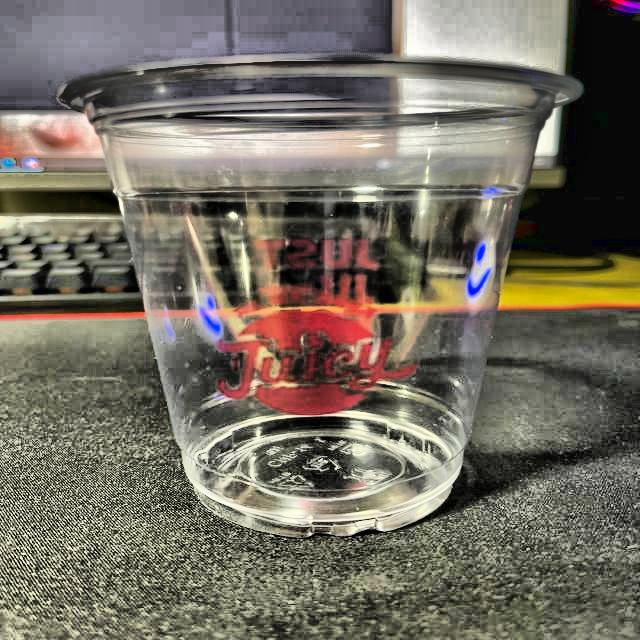plastic cup: (59, 51, 588, 539)
